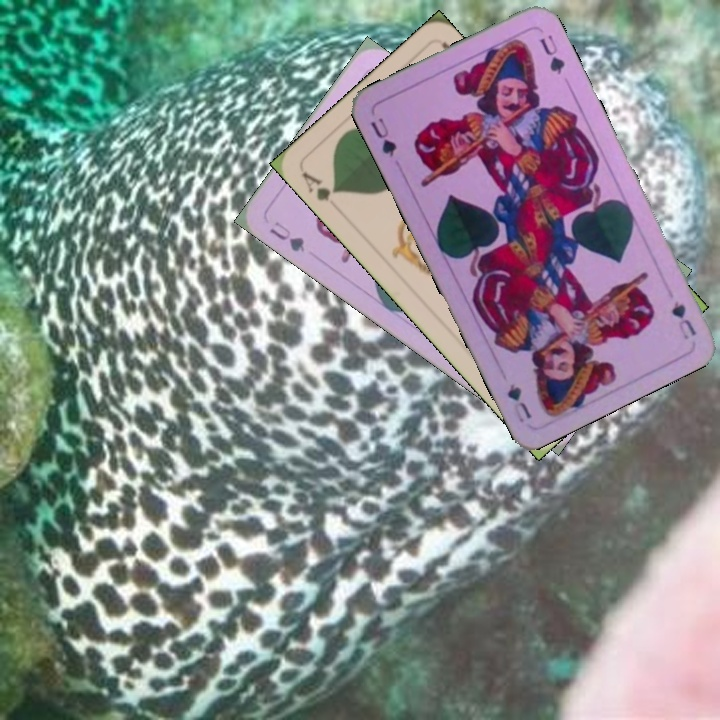GA: (298, 167, 341, 204)
GU: (265, 217, 308, 255), (366, 113, 399, 159), (667, 296, 699, 342)
